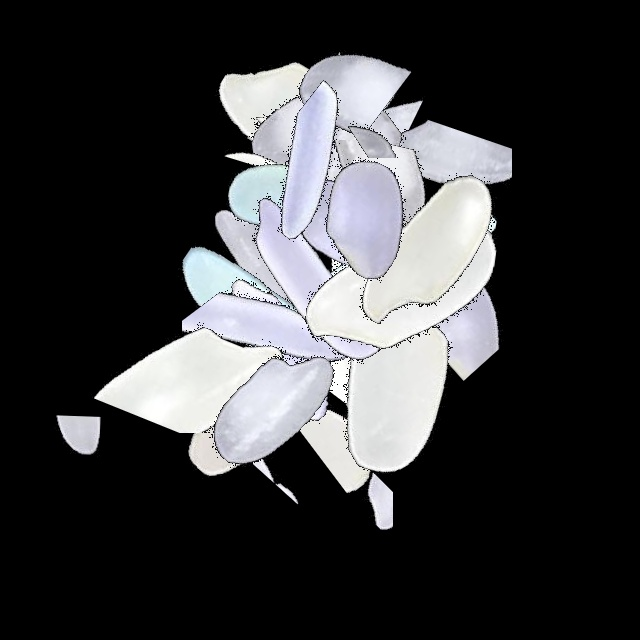Broken: (182, 238, 352, 488), (356, 167, 521, 417), (269, 168, 519, 332), (262, 59, 418, 309), (69, 280, 319, 433), (241, 140, 491, 290), (200, 111, 450, 257), (367, 75, 512, 325), (267, 15, 409, 265), (206, 0, 456, 134), (295, 0, 426, 250), (304, 214, 435, 464), (233, 83, 483, 202), (262, 186, 380, 436), (231, 45, 481, 162), (262, 34, 362, 284), (253, 317, 350, 567), (290, 214, 385, 464), (320, 0, 415, 250), (247, 207, 340, 457), (291, 278, 384, 528), (300, 386, 393, 636), (277, 163, 527, 253), (193, 94, 443, 183), (29, 334, 117, 584), (181, 186, 431, 271), (267, 74, 517, 158), (216, 160, 466, 243), (190, 200, 270, 450), (285, 56, 364, 306), (291, 198, 368, 448)
Full: (252, 174, 502, 424), (228, 88, 478, 338), (137, 144, 387, 394), (187, 0, 437, 250), (139, 282, 389, 532), (232, 61, 482, 311), (134, 190, 384, 440), (191, 0, 441, 250), (266, 255, 516, 505), (281, 138, 531, 388), (194, 79, 444, 329), (156, 220, 406, 470), (225, 33, 475, 283), (185, 158, 435, 408), (277, 155, 527, 405), (226, 99, 476, 349), (147, 283, 397, 533), (303, 125, 553, 375), (241, 94, 491, 344)
